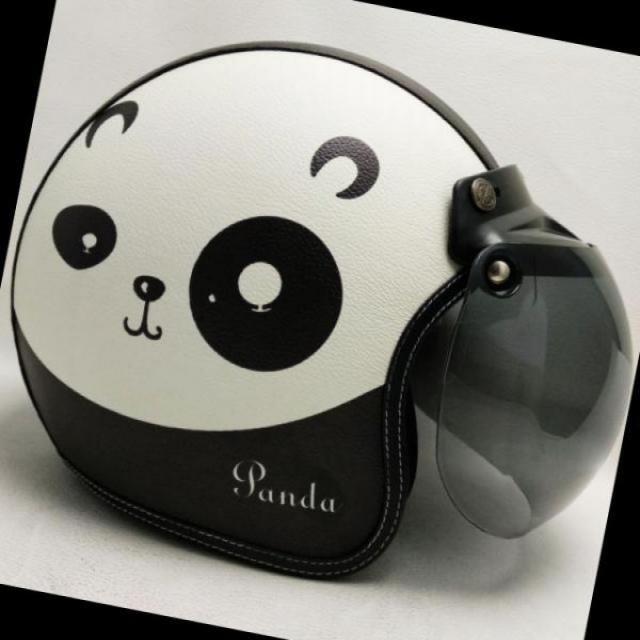Helmet: (21, 84, 577, 588)
